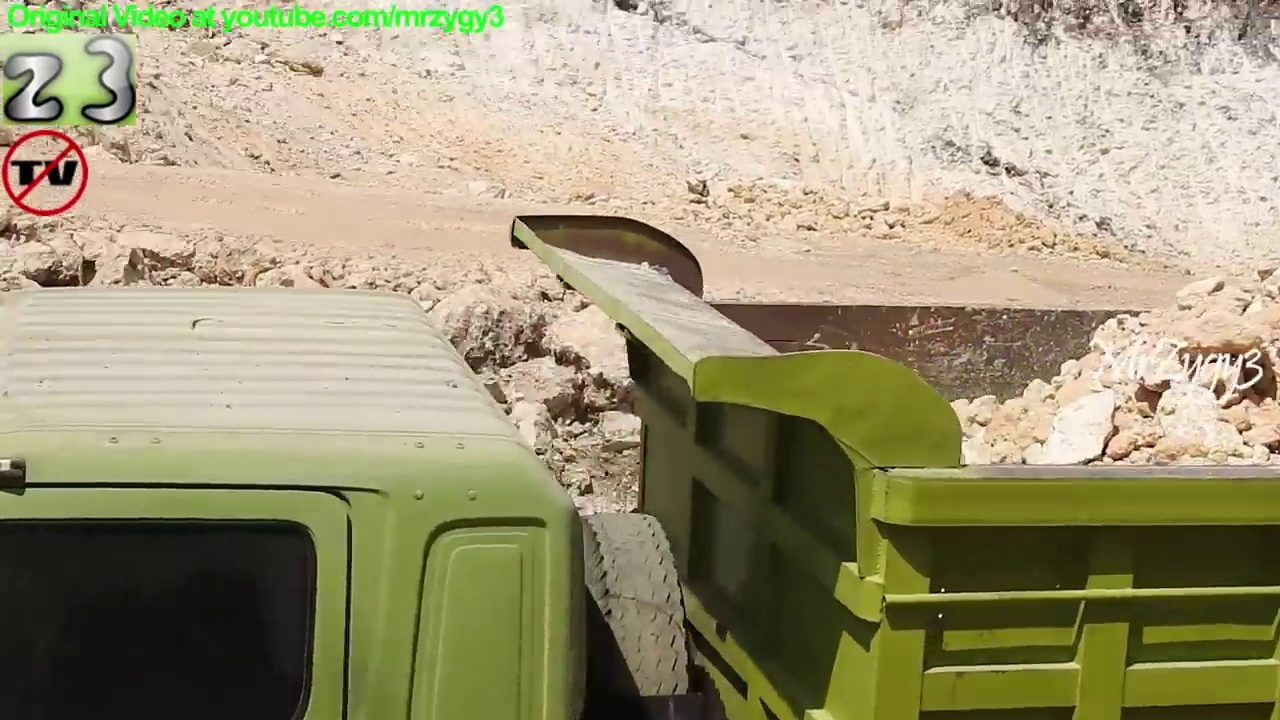truck: (1, 207, 1280, 720)
